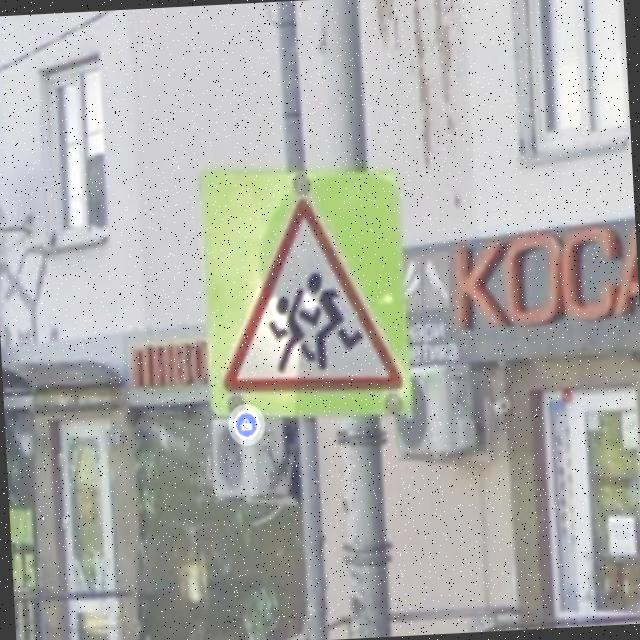Dzieci: (210, 188, 410, 405)
